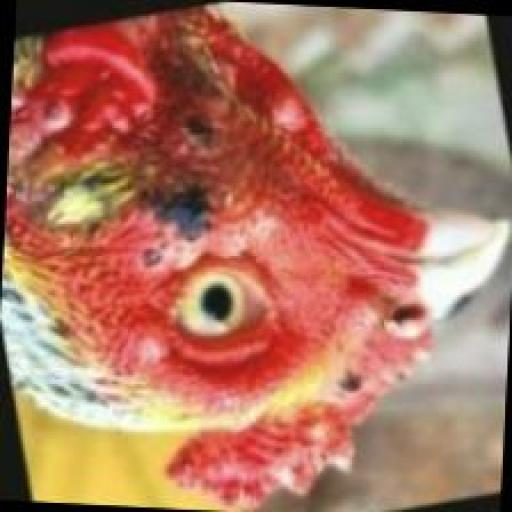disease: (111, 343, 436, 508), (9, 43, 170, 242), (166, 10, 337, 166)
